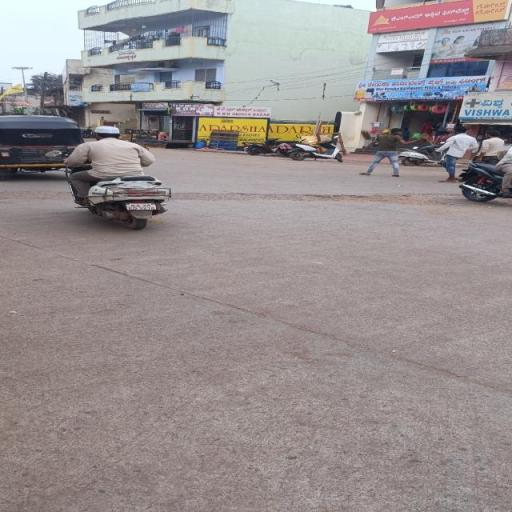bike: (62, 120, 174, 234)
numberplate: (123, 202, 158, 210)
withouthelmet: (95, 127, 121, 139)
